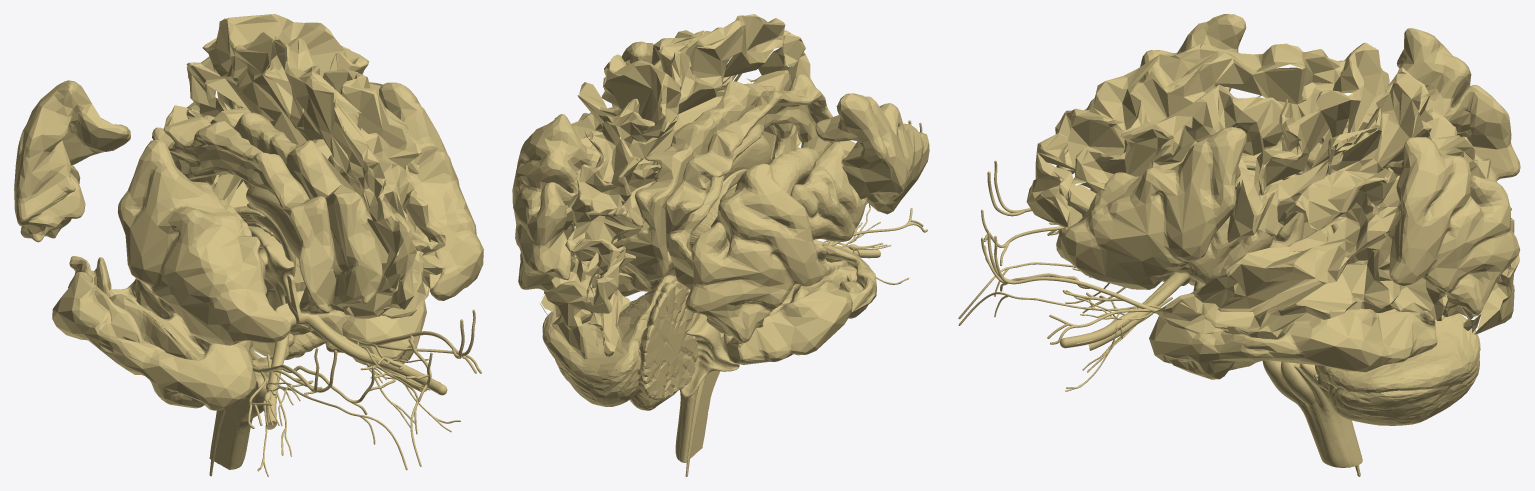
Rendered from nervous-00.glb.
3 views of the same model, side by side, from view 1: azimuth 30°, elevation 25°; view 2: azimuth 150°, elevation 25°; view 3: azimuth 270°, elevation 25° (orthographic). The views are drawn at different scales.
Visible parts, largest first — view 1: FJ1758, FJ1745, FJ1747, FJ1733, FJ1740, FJ1739, FJ1744, FJ1769, FJ1746, FJ1784, FJ1772, FJ1730 (+11 smaller); view 2: FJ1758, FJ1733, FJ1781, FJ1740, FJ1732, FJ1739, FJ1745, FJ1747, FJ1749, FJ1769, FJ1731, FJ1751 (+4 smaller); view 3: FJ1758, FJ1744, FJ1732, FJ1746, FJ1781, FJ1733, FJ1769, FJ1748, FJ1745, FJ1772, FJ1313, FJ1325 (+1 smaller).
Part boxes in pixels (x1,y1,x2,y2): FJ1758: (164,14,446,318); FJ1745: (117,139,290,345); FJ1747: (52,256,256,410); FJ1733: (14,80,130,242); FJ1740: (152,116,336,314); FJ1739: (190,108,382,306); FJ1744: (379,82,483,300); FJ1769: (209,357,271,469); FJ1746: (342,300,426,366); FJ1784: (108,279,252,359); FJ1772: (299,303,447,395); FJ1730: (248,226,294,305); FJ1758: (540,14,810,359); FJ1733: (685,163,824,342); FJ1781: (542,275,699,410); FJ1740: (665,73,832,289); FJ1732: (512,114,600,291); FJ1739: (612,70,796,291); FJ1745: (815,93,929,214); FJ1747: (723,244,876,364); FJ1749: (790,142,867,241); FJ1769: (675,332,725,462); FJ1731: (681,314,739,397); FJ1751: (769,147,819,195); FJ1758: (1026,42,1519,339); FJ1744: (1056,127,1246,289); FJ1732: (1385,137,1519,314); FJ1746: (1149,308,1437,379); FJ1781: (1315,309,1480,425); FJ1733: (1385,28,1520,181); FJ1769: (1262,360,1362,467); FJ1748: (1174,212,1304,284); FJ1745: (1056,14,1246,174); FJ1772: (1060,272,1180,348); FJ1313: (1088,273,1190,350); FJ1325: (987,232,1092,288).
Bounding box in the file's own units: 0.1306 × 0.1643 × 0.1866.
